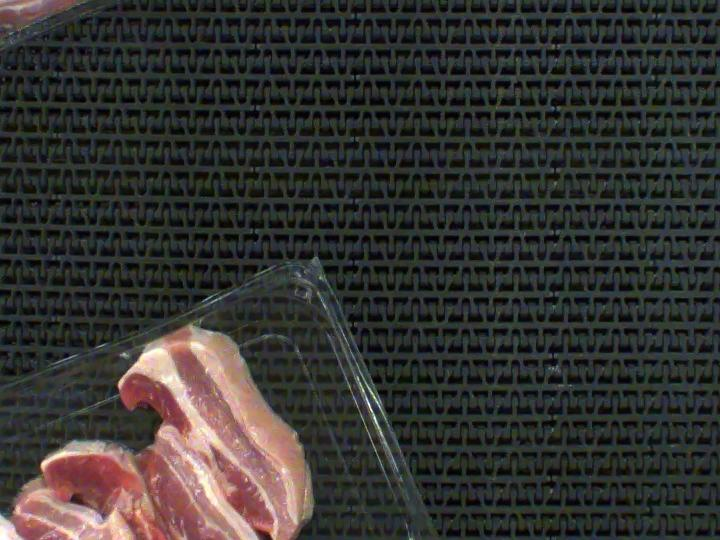packaging-error: (133, 318, 210, 390)
